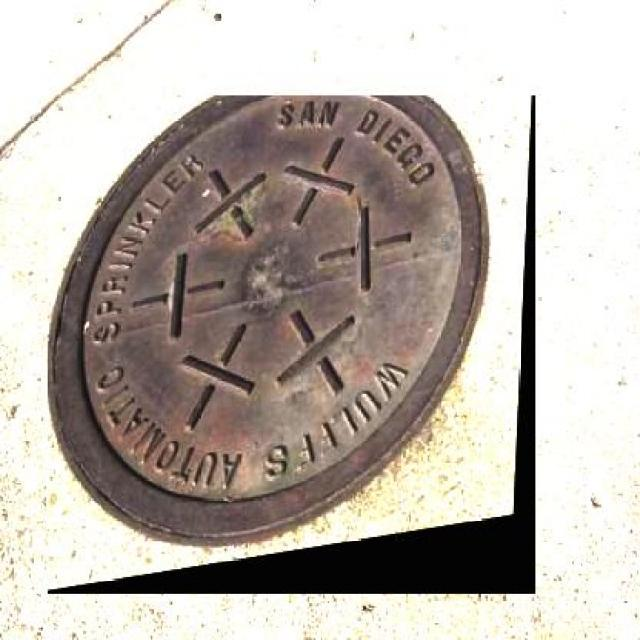Manhole: (48, 95, 536, 594)
